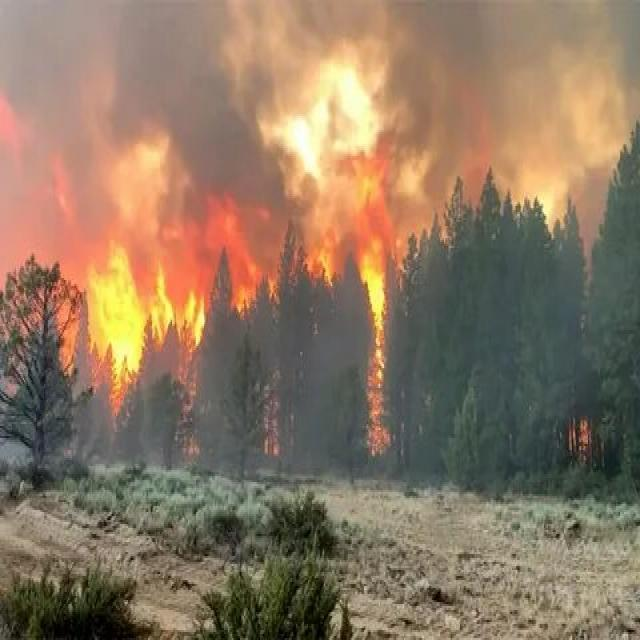Fire: (34, 220, 231, 403), (340, 222, 404, 463), (248, 388, 298, 464)
Smoke: (0, 0, 640, 222)
